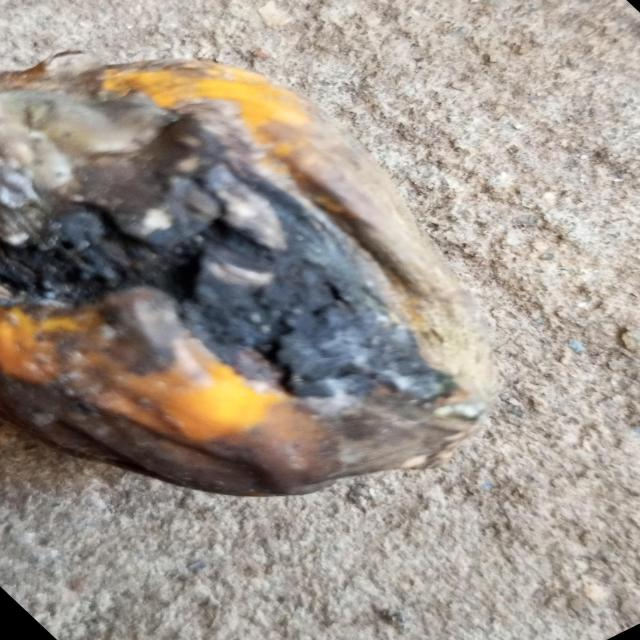damaged: (0, 53, 500, 500)
